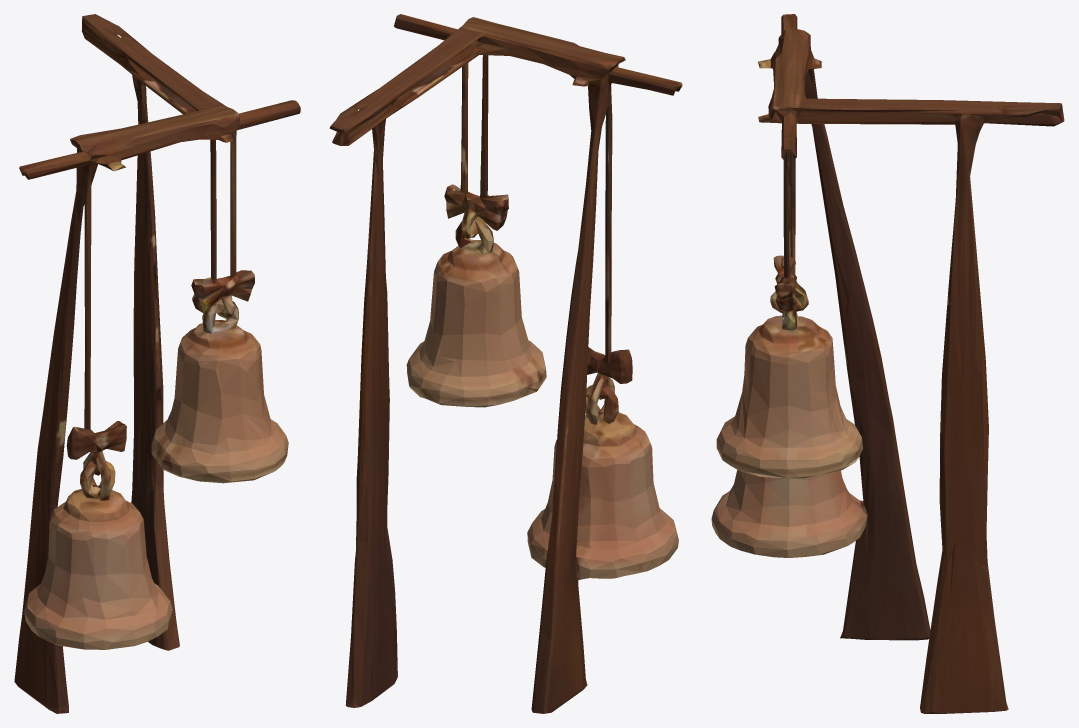
File: tower_bells.glb
The picture shows the model from 3 angles, left to right: view 1: azimuth 30°, elevation 25°; view 2: azimuth 150°, elevation 25°; view 3: azimuth 270°, elevation 25°; orthographic projection. The views are drawn at different scales.
Visible parts, largest first — view 1: textured_mesh.obj; view 2: textured_mesh.obj; view 3: textured_mesh.obj.
Part boxes in pixels (x1,y1,x2,y2): textured_mesh.obj: (14, 14, 300, 713); textured_mesh.obj: (329, 14, 682, 713); textured_mesh.obj: (711, 14, 1064, 713).
Size of the model in its own units: 1.27 by 2.6 by 1.38.
Materials: 1 (1 with a texture image).
